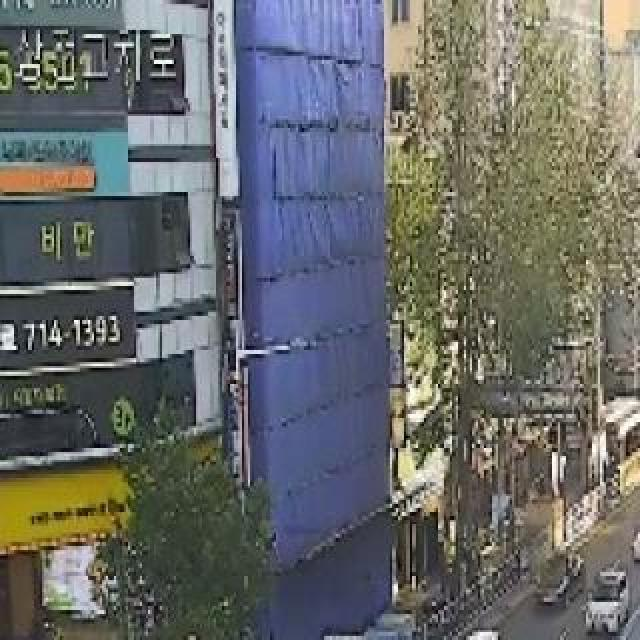car: (589, 560, 638, 635), (434, 622, 512, 640), (628, 500, 640, 556)
